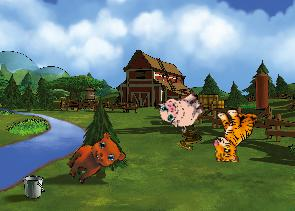bear: (61, 125, 130, 195)
pig: (154, 82, 210, 137)
tiger: (212, 108, 257, 162)
